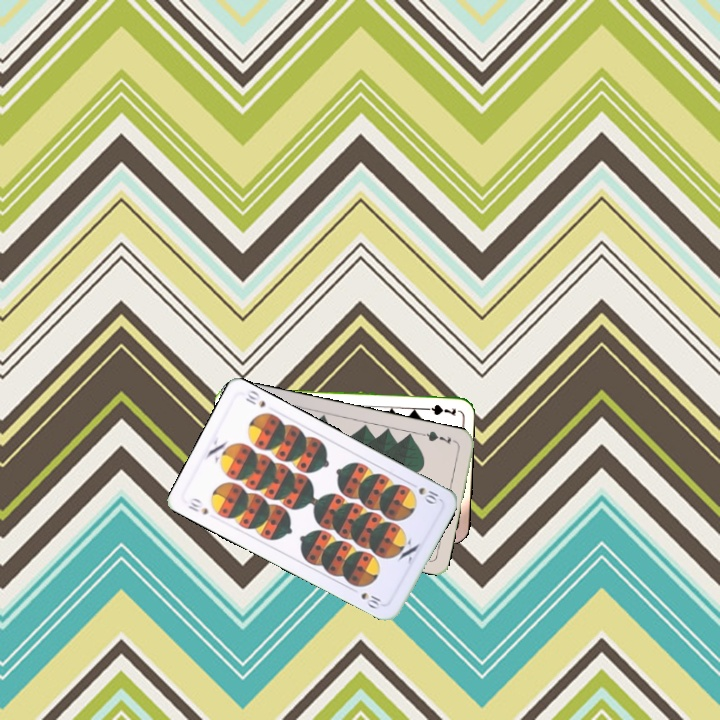G7: (419, 427, 459, 447), (418, 400, 458, 418)
S10: (405, 478, 443, 507), (184, 494, 211, 517)
